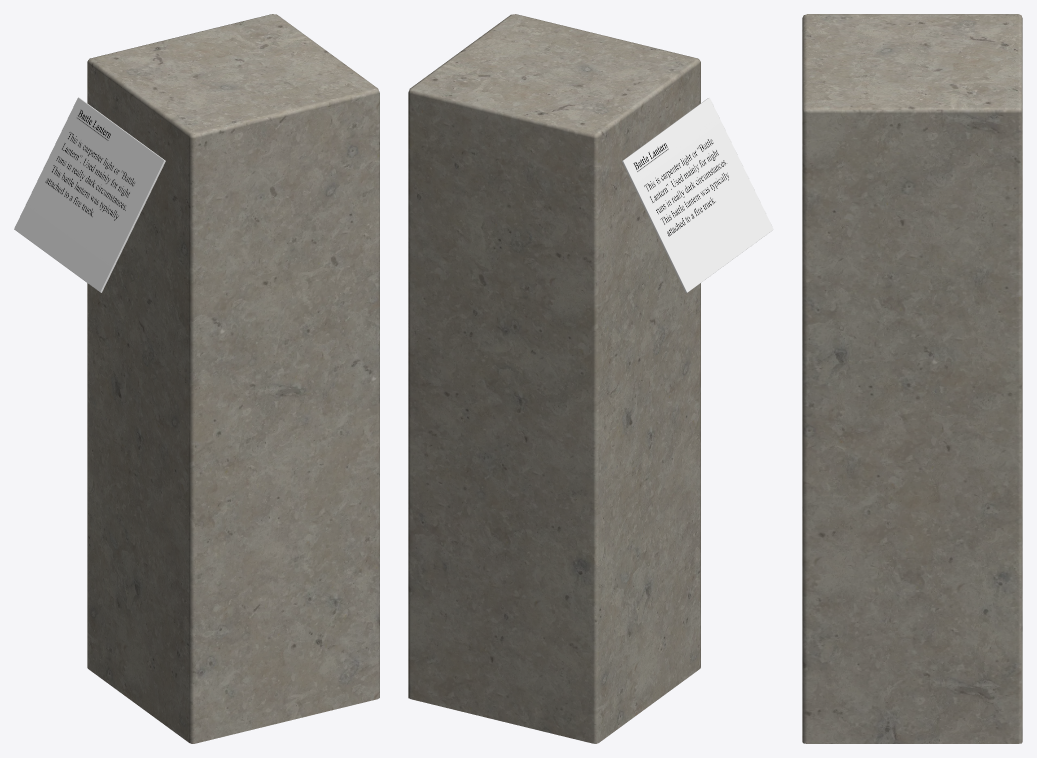
File: pedestalMuseo.glb
3 renders of one model, left to right at view 1: azimuth 30°, elevation 25°; view 2: azimuth 150°, elevation 25°; view 3: azimuth 270°, elevation 25°, orthographic. The views are drawn at different scales.
Bounding box in the file's own units: 0.5892 × 1.26 × 0.3978.
Materials: 2 (2 with a texture image).
